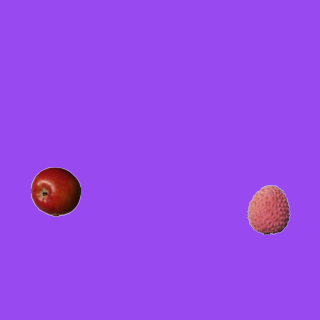Apple Braeburn: (30, 166, 80, 216)
Lychee: (243, 184, 293, 234)
